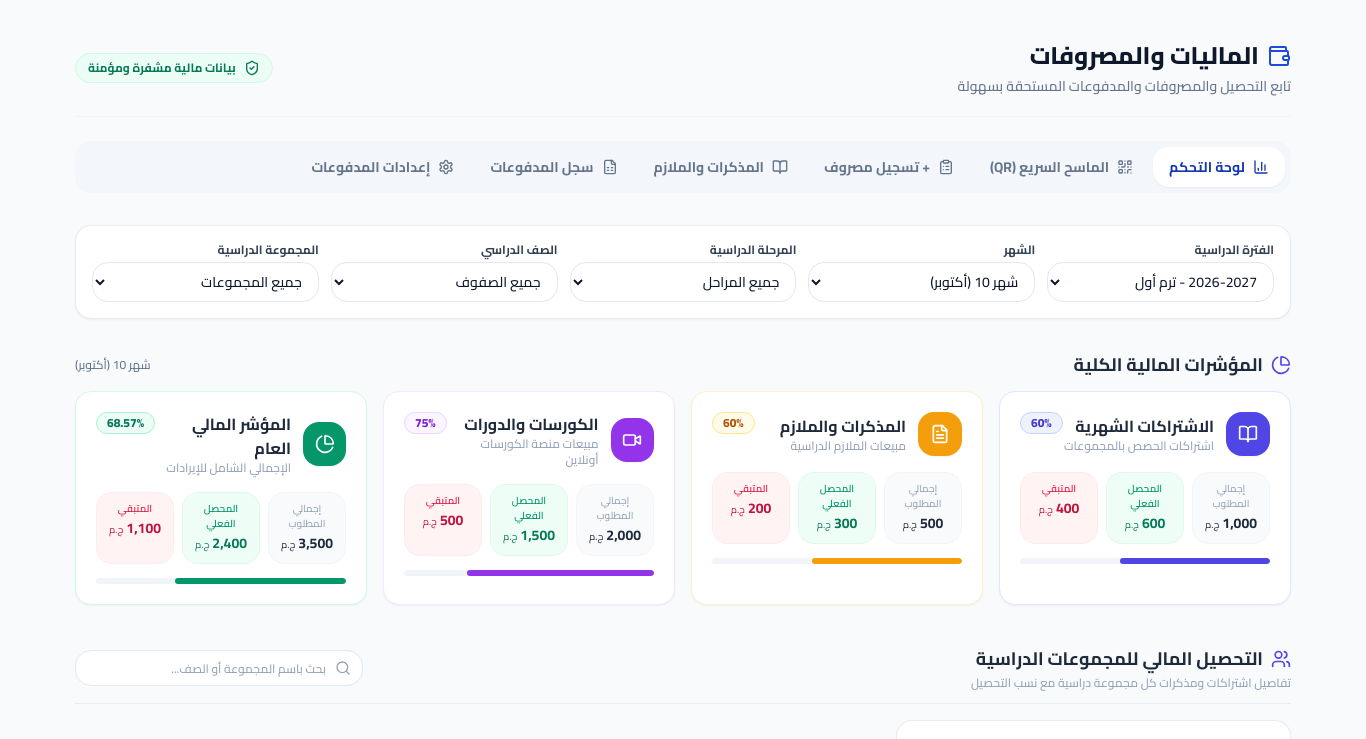
it: FinanceDashboard › renders the booklets management view when booklets tab is selected
Click on Booklets tab
Click the button "المذكرات والملازم". click: (721, 167)
box: [638, 147, 804, 187]
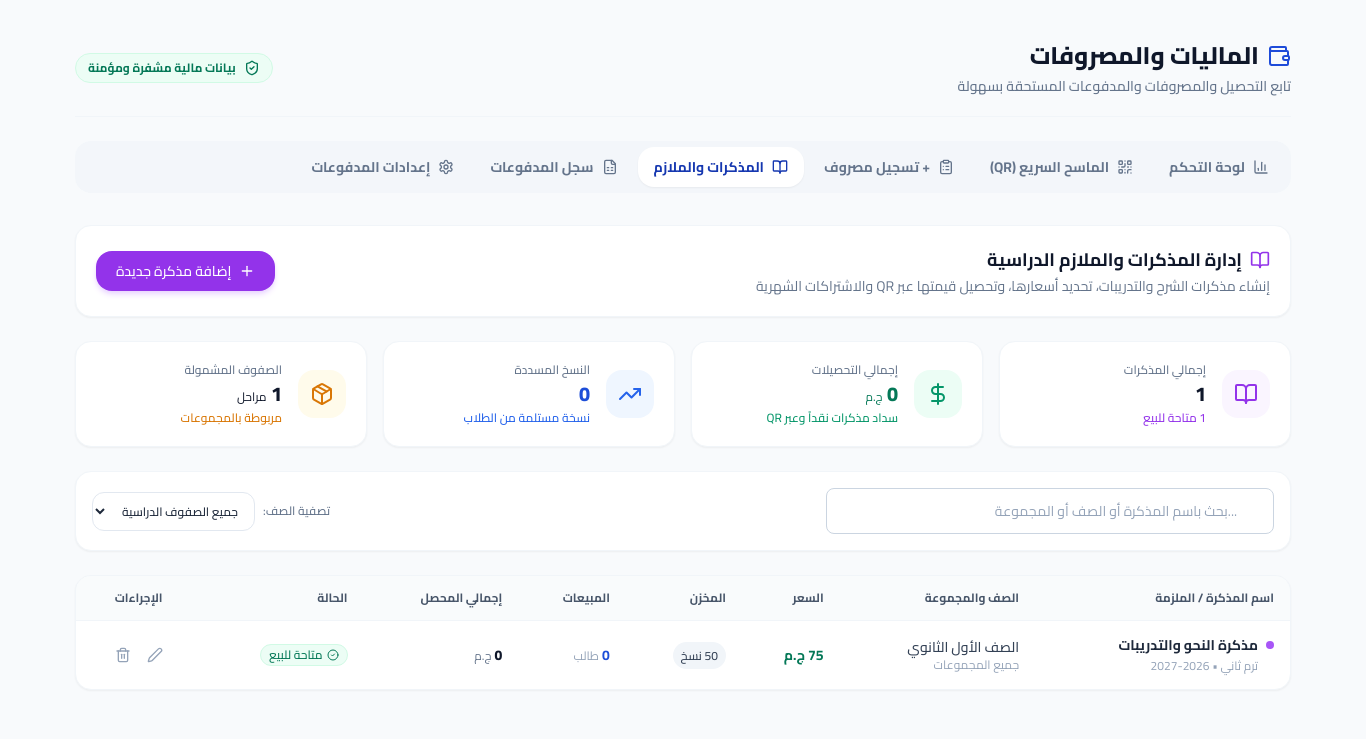
Expected: the heading "إدارة المذكرات والملازم الدراسية" is shown, [987, 243, 1270, 276]
Expected: the text "مذكرة النحو والتدريبات" is shown, [1118, 632, 1274, 658]
